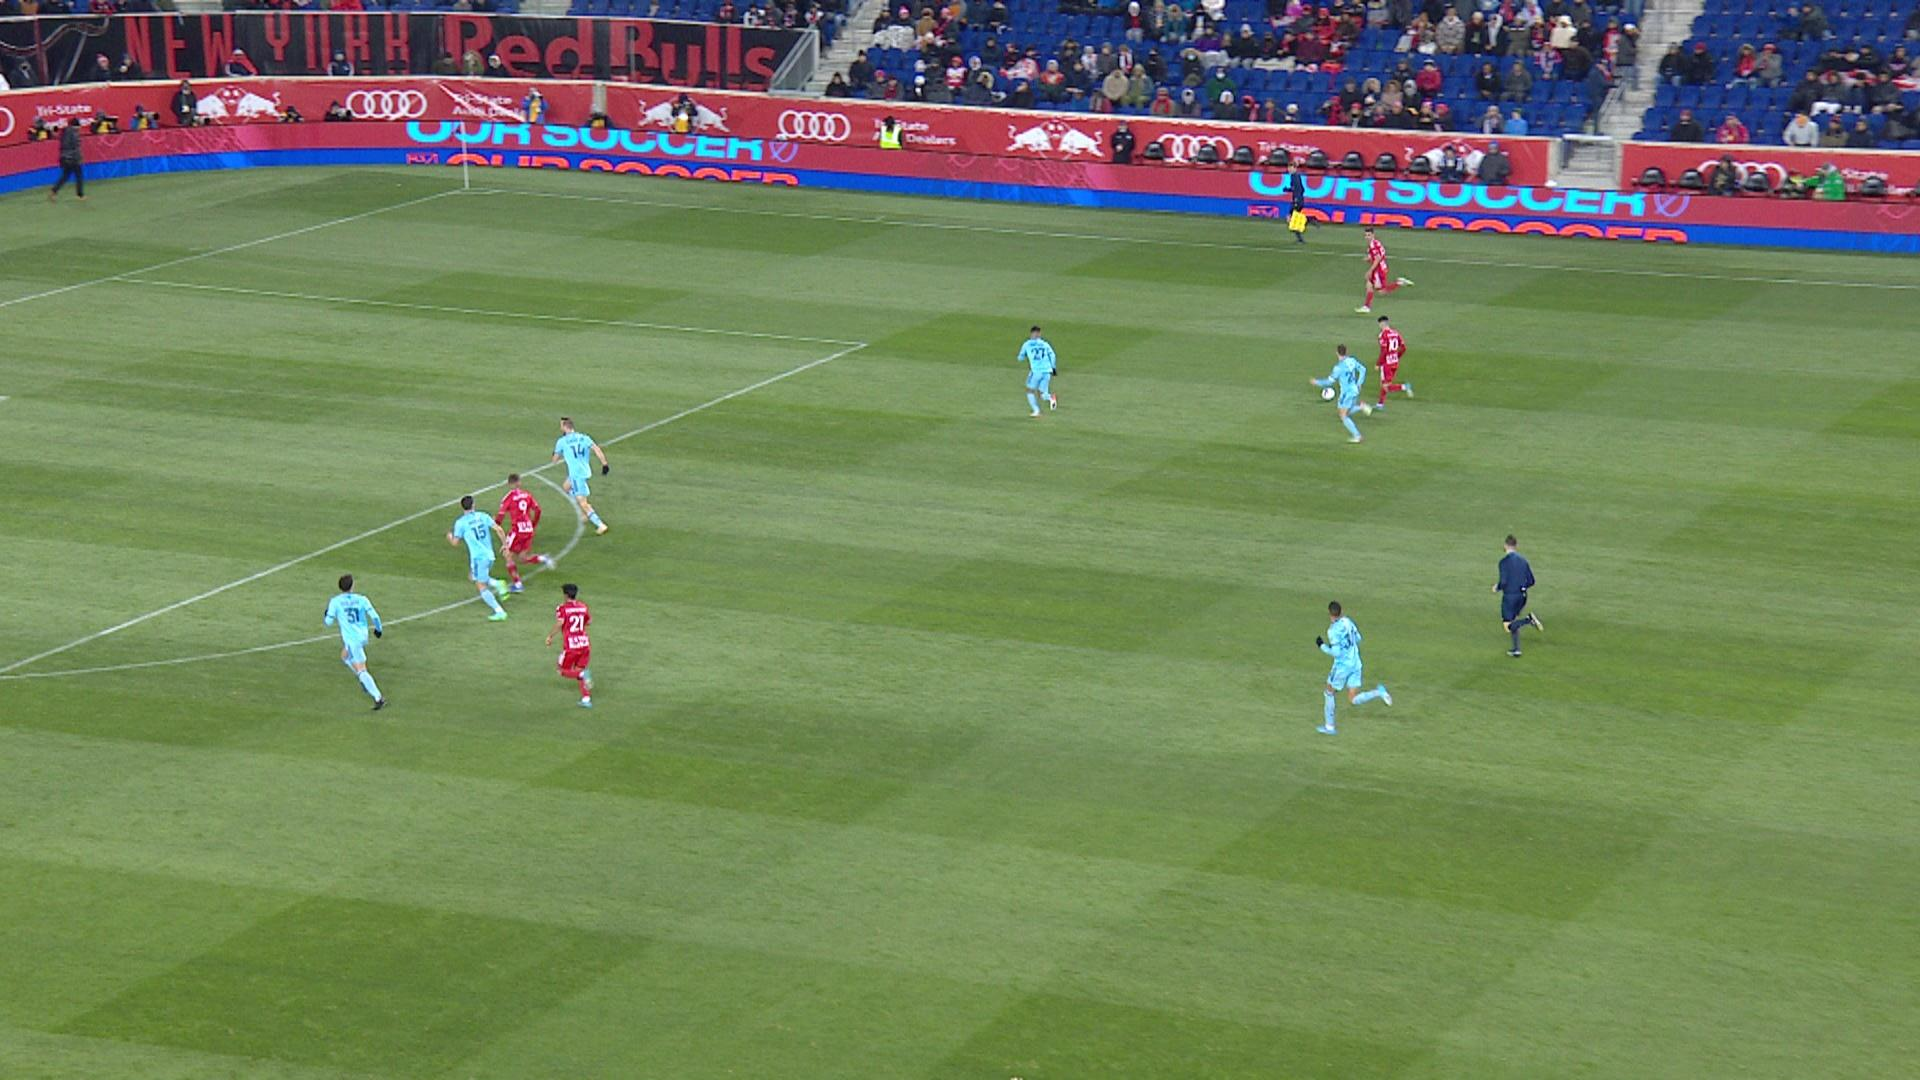football: (1321, 387, 1336, 401)
